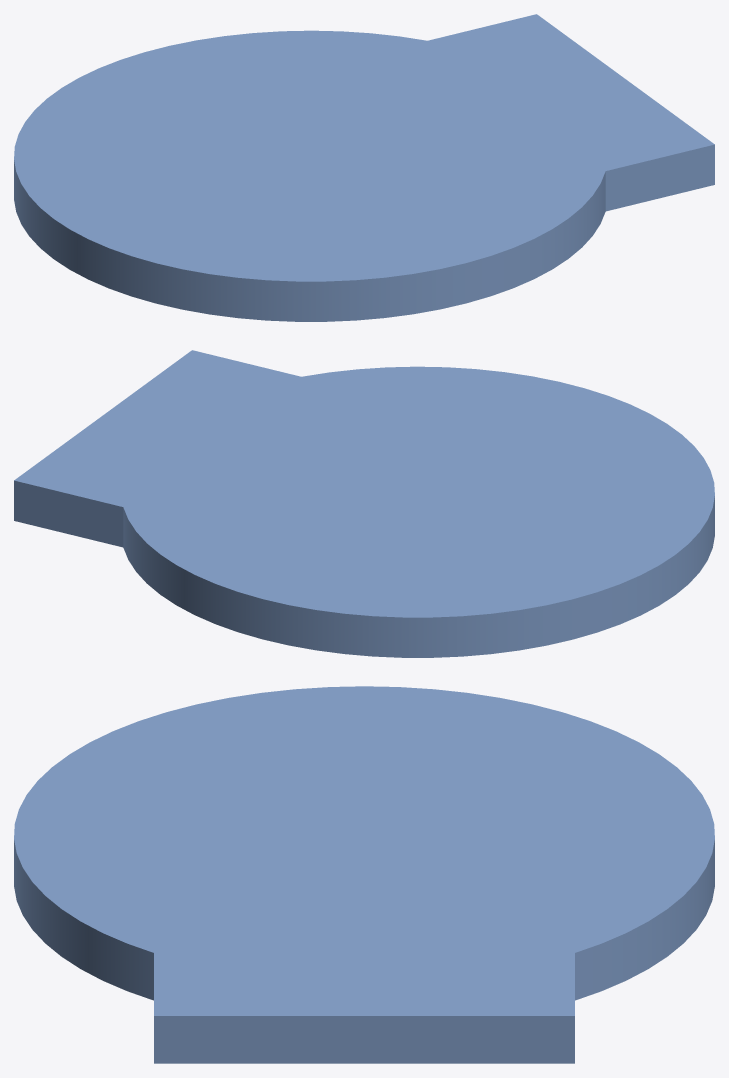
File: step_04.glb
The picture shows the model from 3 angles, top to bottom: view 1: azimuth 30°, elevation 25°; view 2: azimuth 150°, elevation 25°; view 3: azimuth 270°, elevation 25°; orthographic projection. The views are drawn at different scales.
Visible parts, largest first — view 1: part__fork; view 2: part__fork; view 3: part__fork.
Boxes of the visible parts, bbox=[...] form: part__fork: bbox=[14, 14, 714, 321]; part__fork: bbox=[14, 350, 714, 657]; part__fork: bbox=[14, 686, 714, 1063].
Bounding box in the file's own units: 89 × 6 × 79.97.
